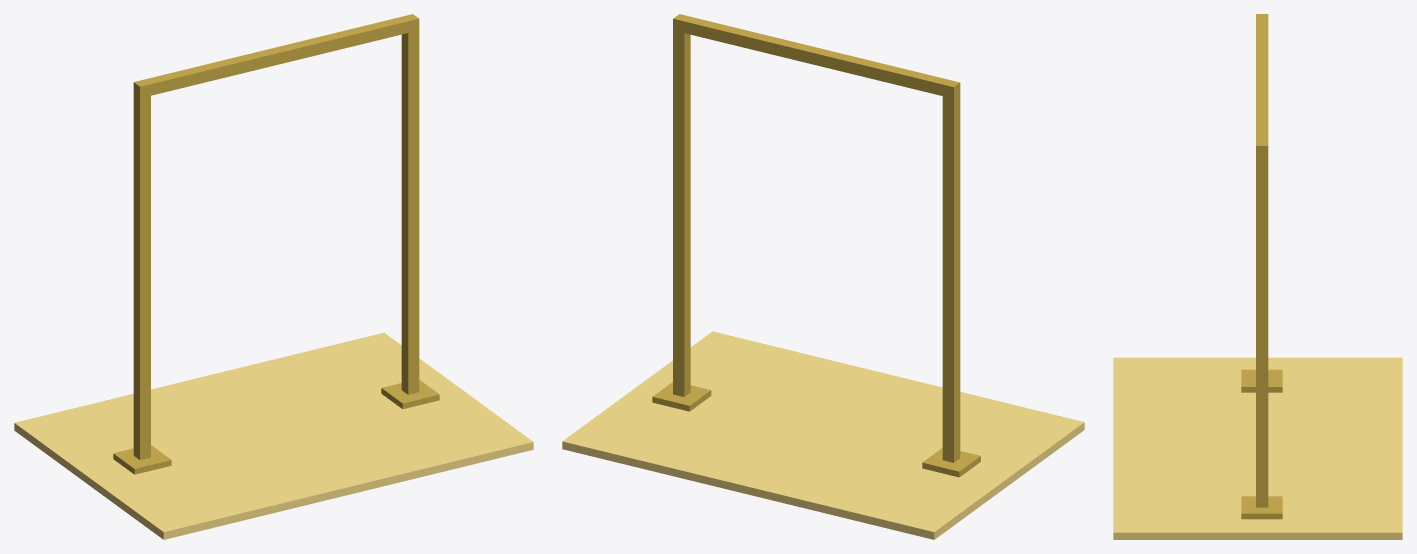
File: PullUp_BarUpgrade4.glb
3 renders of one model, left to right at view 1: azimuth 30°, elevation 25°; view 2: azimuth 150°, elevation 25°; view 3: azimuth 270°, elevation 25°, orthographic. The views are drawn at different scales.
Visible parts, largest first — view 1: Cube, Cube_copy_copy_copy, Cube_copy_copy_copy_copy, Cube_copy_copy_copy_copy_copy, Cube_copy_copy, Cube_copy; view 2: Cube, Cube_copy_copy_copy_copy, Cube_copy_copy_copy, Cube_copy_copy_copy_copy_copy, Cube_copy_copy, Cube_copy; view 3: Cube, Cube_copy_copy_copy, Cube_copy_copy_copy_copy_copy, Cube_copy_copy, Cube_copy.
Part boxes in pixels (bbox=[...]): Cube: bbox=[14, 332, 533, 539]; Cube_copy_copy_copy: bbox=[401, 14, 419, 394]; Cube_copy_copy_copy_copy: bbox=[133, 80, 150, 460]; Cube_copy_copy_copy_copy_copy: bbox=[137, 14, 418, 95]; Cube_copy_copy: bbox=[381, 380, 439, 409]; Cube_copy: bbox=[113, 445, 171, 474]; Cube: bbox=[562, 331, 1084, 539]; Cube_copy_copy_copy_copy: bbox=[942, 80, 960, 462]; Cube_copy_copy_copy: bbox=[673, 14, 690, 396]; Cube_copy_copy_copy_copy_copy: bbox=[673, 14, 955, 97]; Cube_copy_copy: bbox=[652, 382, 711, 411]; Cube_copy: bbox=[922, 448, 980, 477]; Cube: bbox=[1113, 357, 1402, 539]; Cube_copy_copy_copy: bbox=[1256, 140, 1268, 507]; Cube_copy_copy_copy_copy_copy: bbox=[1256, 15, 1268, 156]; Cube_copy_copy: bbox=[1241, 496, 1282, 519]; Cube_copy: bbox=[1241, 369, 1282, 392].
Bounding box in the file's own units: 8 × 8 × 5.6.
